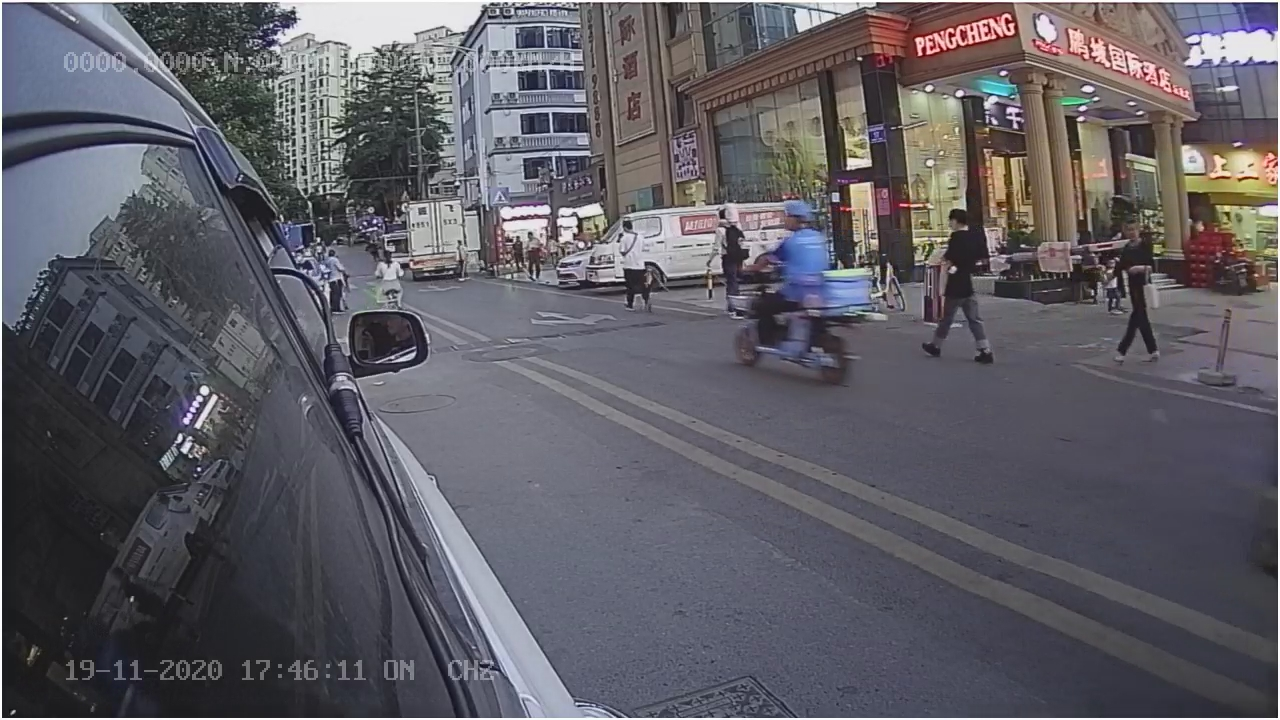person: (914, 204, 1006, 378)
